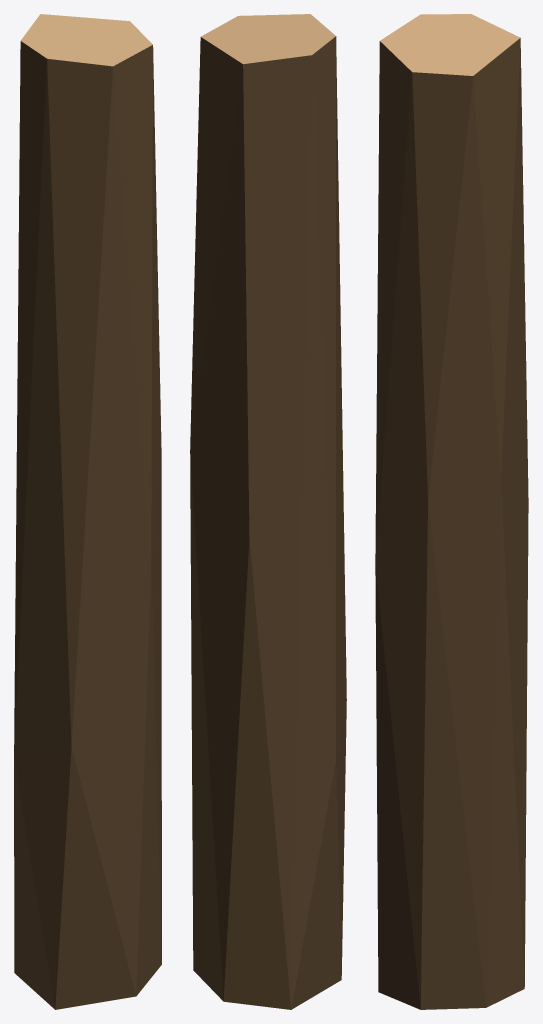
File: log_01.fbx
3 views of the same model, side by side, from view 1: azimuth 30°, elevation 25°; view 2: azimuth 150°, elevation 25°; view 3: azimuth 270°, elevation 25° (orthographic).
Parts seen in each view (by area): view 1: log_01; view 2: log_01; view 3: log_01.
Part boxes in pixels (bbox=[...]): log_01: bbox=[14, 14, 161, 1009]; log_01: bbox=[190, 14, 346, 1009]; log_01: bbox=[375, 14, 528, 1009].
Size of the model in its own units: 7.4 by 49.68 by 7.25.
